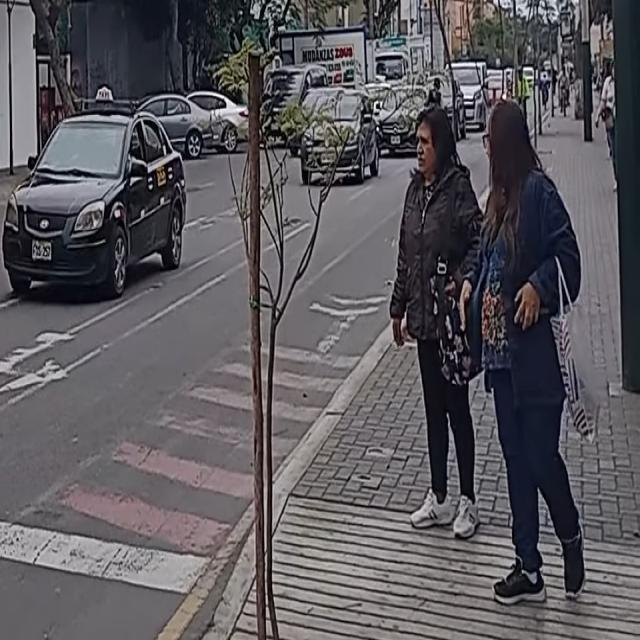bus: (0, 102, 189, 300), (300, 88, 381, 184), (445, 59, 488, 128)
